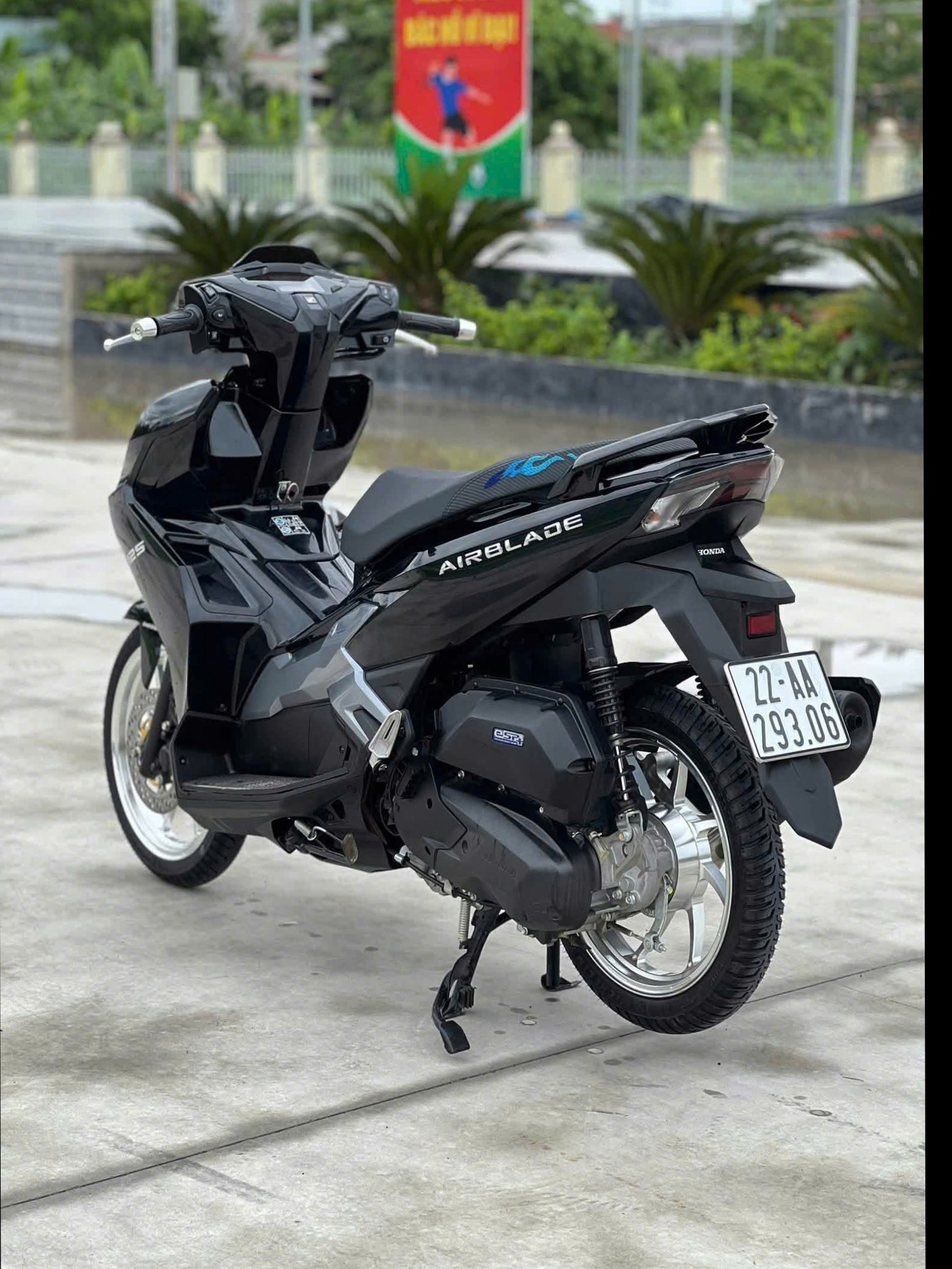Bien-so: (776, 645, 911, 762)
